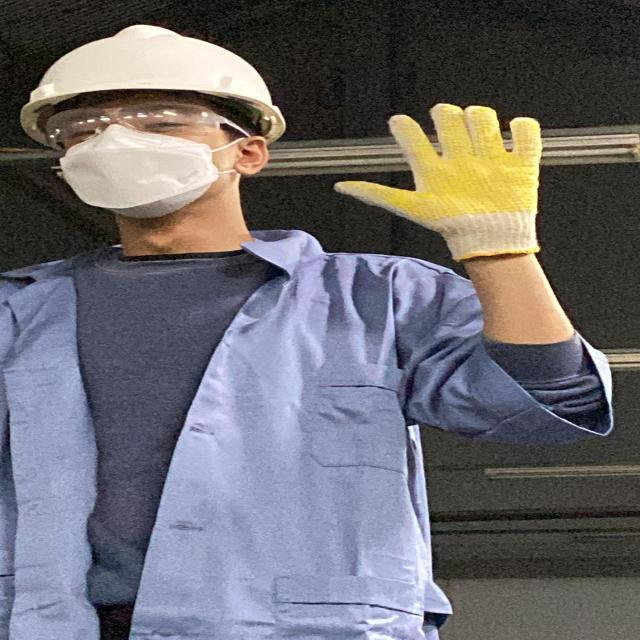glasses: (35, 100, 259, 151)
